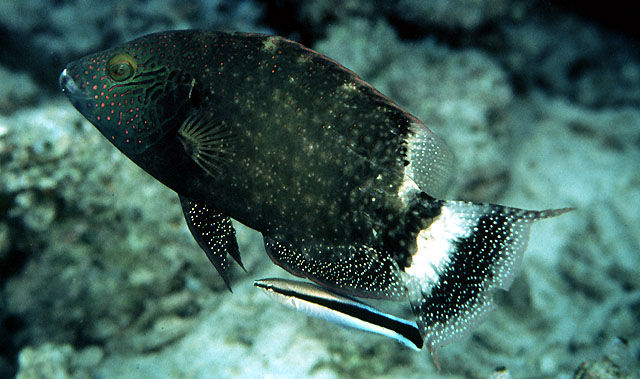fish: (60, 31, 578, 351)
